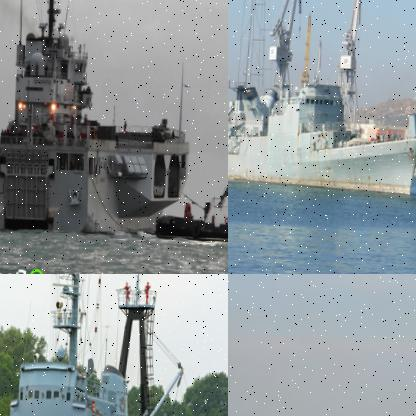Military Ship: (0, 0, 199, 240), (0, 274, 227, 415), (228, 65, 415, 196)
Patrol Boat: (153, 85, 227, 249)
